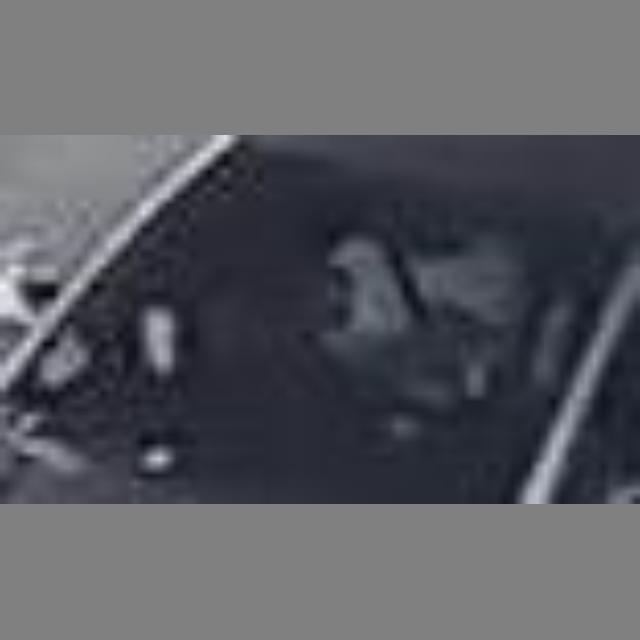pakai: (279, 184, 517, 430)
